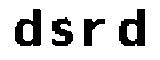d: (115, 6, 149, 52), (8, 8, 45, 50)
r: (81, 13, 108, 49)
s: (49, 18, 76, 49)
